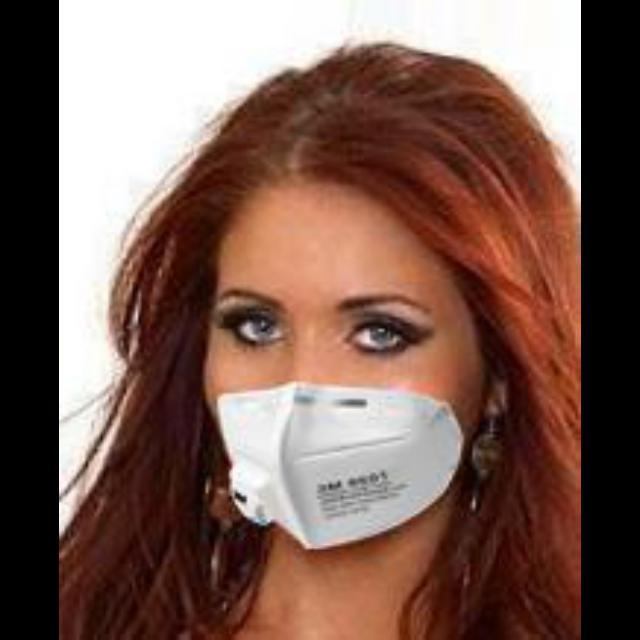suspicion: (169, 100, 506, 530)
